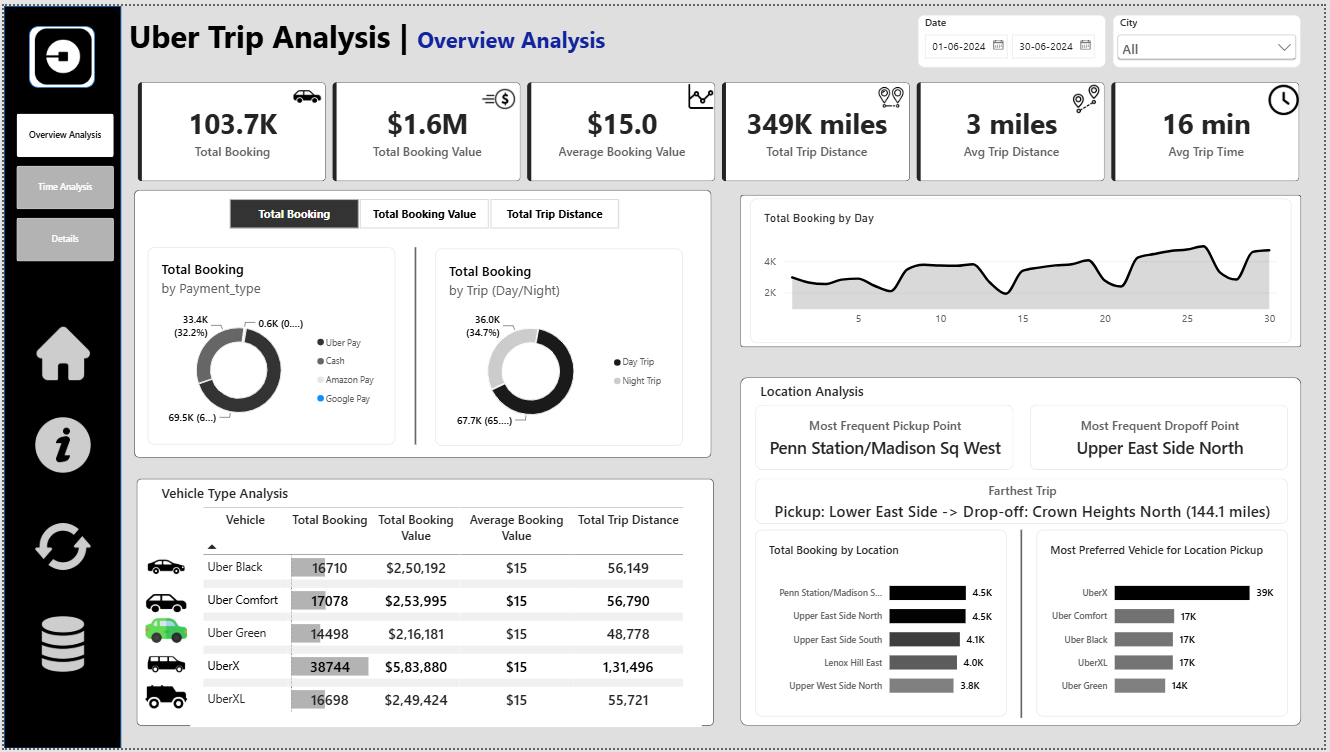

Layout of this report page (visuals, bound fields, positions):
{"tool":"powerbi","page":{"name":"Overview Analysis","canvas":[1600,900],"ordinal":0},"visuals":[{"type":"shape","box":[0,0,142,900],"z":0},{"type":"textbox","box":[151.4,10,580,54.3],"z":1000},{"type":"cardVisual","fields":{"Data":["Measure.Total Booking","Measure.Total Booking Value","Measure.Average Booking Amount","Measure.Total Trip Distance","Measure.Avg Trip Distance","Measure.Avg Trip Time"]},"box":[162,93,1410,120],"z":2000},{"type":"image","box":[579.1,95.5,43.6,34.5],"z":3000},{"type":"image","box":[1057.3,95.5,35.5,30],"z":4000},{"type":"image","box":[1291.1,95.6,43.6,34.5],"z":5000},{"type":"image","box":[1530,95.6,42.2,36.7],"z":6000},{"type":"image","box":[823.3,92.2,43.6,34.5],"z":7000},{"type":"shape","box":[158,223.5,700,325],"z":8000},{"type":"image","box":[345.6,92.2,43.6,34.5],"z":9000},{"type":"slicer","fields":{"Values":["Dynamic Measure.Dynamic Measure"]},"box":[253.1,232.1,511.1,39.5],"z":10000},{"type":"donutChart","fields":{"Category":["Trip Details.Payment_type"],"Y":["Measure.Total Booking"]},"box":[174.3,292.9,300,239],"z":11000},{"type":"donutChart","fields":{"Category":["Trip Details.Trip Type (Day/Night)"],"Y":["Measure.Total Booking"]},"box":[523.3,293.3,300,239],"z":12000},{"type":"shape","box":[160,573.3,700,300],"z":13000},{"type":"pivotTable","fields":{"Rows":["Trip Details.Vehicle"],"Values":["Measure.Total Booking","Measure.Total Booking Value","Measure.Average Booking Value","Measure.Total Trip Distance Measure"]},"box":[225,591.7,620,281.7],"z":14000},{"type":"image","box":[151.6,655,90,50],"z":15000},{"type":"image","box":[151.6,698.4,90,50],"z":16000},{"type":"image","box":[151.6,732.5,90,50],"z":17000},{"type":"image","box":[151.6,773.3,90,50],"z":18000},{"type":"image","box":[151.6,812.5,90,50],"z":19000},{"type":"cardVisual","fields":{"Data":["Measure.Title for Grid"]},"box":[161.7,573.3,211.7,33.3],"z":20000},{"type":"shape","box":[892.2,228.1,680,185],"z":21000},{"type":"areaChart","fields":{"Category":["Calendar Table.Date.Variation.Date Hierarchy.Day"],"Y":["Measure.Total Booking"]},"box":[904.7,232.8,656.2,175],"z":22000},{"type":"shape","box":[892.5,450,680,422.5],"z":23000},{"type":"cardVisual","fields":{"Data":["Measure.Most Frequent Pickup Point","Measure.Most Frequent Dropoff Point"]},"box":[910,483.3,646.7,79.2],"z":24000},{"type":"cardVisual","fields":{"Data":["Measure.Farthest Trip"]},"box":[910,573.3,646.7,55.6],"z":25000},{"type":"barChart","fields":{"Category":["Location Table.Location"],"Y":["Measure.Total Booking"]},"box":[910,635.6,304.4,226.7],"z":26000},{"type":"barChart","title":"Most Preferred Vehicle for Location Pickup","fields":{"Category":["Trip Details.Vehicle"],"Y":["CountNonNull(Trip Details.PULocationID)"]},"box":[1251.1,635.6,304.4,226.7],"z":27000},{"type":"shape","box":[474,293,49,239],"z":28000},{"type":"shape","box":[1214,635,39,228],"z":29000},{"type":"cardVisual","fields":{"Data":["Measure.Title for Location"]},"box":[892.2,450,174.4,33.3],"z":30000},{"type":"slicer","fields":{"Values":["Location Table.City"]},"box":[1344,10,228,64],"z":31000},{"type":"slicer","fields":{"Values":["Calendar Table.Date"]},"box":[1107,10,228,64],"z":32000},{"type":"shape","box":[30.3,24.2,80,75],"z":33000,"group":"g1"},{"type":"pageNavigator","box":[15,130,118.3,180],"z":33000},{"type":"group","id":"g1","title":"Group 1","box":[30.3,24.2,80.9,75],"z":34000},{"type":"image","box":[31.2,27.6,80,68.1],"z":34000,"group":"g1"},{"type":"image","box":[40,386.2,65,70],"z":35000},{"type":"image","box":[37.5,498.8,67.5,67.5],"z":36000},{"type":"image","box":[37.5,615,67.5,80],"z":37000},{"type":"image","box":[37.5,733.8,67.5,80],"z":38000}]}

Visuals, with their boxes on the page's 1600x900 design canvas (x1, y1, x2, y2). These are canvas units, not pixel positions in the 1330x752 screenshot, which may show the page scaled, cropped or inside an application window:
shape: detection(0, 0, 142, 900)
textbox: detection(151, 10, 731, 64)
cardVisual - Measure.Total Booking x Measure.Total Booking Value: detection(162, 93, 1572, 213)
image: detection(579, 96, 623, 130)
image: detection(1057, 96, 1093, 126)
image: detection(1291, 96, 1335, 130)
image: detection(1530, 96, 1572, 132)
image: detection(823, 92, 867, 127)
shape: detection(158, 224, 858, 548)
image: detection(346, 92, 389, 127)
slicer - Dynamic Measure.Dynamic Measure: detection(253, 232, 764, 272)
donutChart - Trip Details.Payment_type x Measure.Total Booking: detection(174, 293, 474, 532)
donutChart - Trip Details.Trip Type (Day/Night) x Measure.Total Booking: detection(523, 293, 823, 532)
shape: detection(160, 573, 860, 873)
pivotTable - Trip Details.Vehicle x Measure.Total Booking: detection(225, 592, 845, 873)
image: detection(152, 655, 242, 705)
image: detection(152, 698, 242, 748)
image: detection(152, 732, 242, 782)
image: detection(152, 773, 242, 823)
image: detection(152, 812, 242, 862)
cardVisual - Measure.Title for Grid: detection(162, 573, 373, 607)
shape: detection(892, 228, 1572, 413)
areaChart - Calendar Table.Date.Variation.Date Hierarchy.Day x Measure.Total Booking: detection(905, 233, 1561, 408)
shape: detection(892, 450, 1572, 872)
cardVisual - Measure.Most Frequent Pickup Point x Measure.Most Frequent Dropoff Point: detection(910, 483, 1557, 562)
cardVisual - Measure.Farthest Trip: detection(910, 573, 1557, 629)
barChart - Location Table.Location x Measure.Total Booking: detection(910, 636, 1214, 862)
"Most Preferred Vehicle for Location Pickup" barChart: detection(1251, 636, 1556, 862)
shape: detection(474, 293, 523, 532)
shape: detection(1214, 635, 1253, 863)
cardVisual - Measure.Title for Location: detection(892, 450, 1067, 483)
slicer - Location Table.City: detection(1344, 10, 1572, 74)
slicer - Calendar Table.Date: detection(1107, 10, 1335, 74)
shape: detection(30, 24, 110, 99)
pageNavigator: detection(15, 130, 133, 310)
"Group 1" group: detection(30, 24, 111, 99)
image: detection(31, 28, 111, 96)
image: detection(40, 386, 105, 456)
image: detection(38, 499, 105, 566)
image: detection(38, 615, 105, 695)
image: detection(38, 734, 105, 814)
